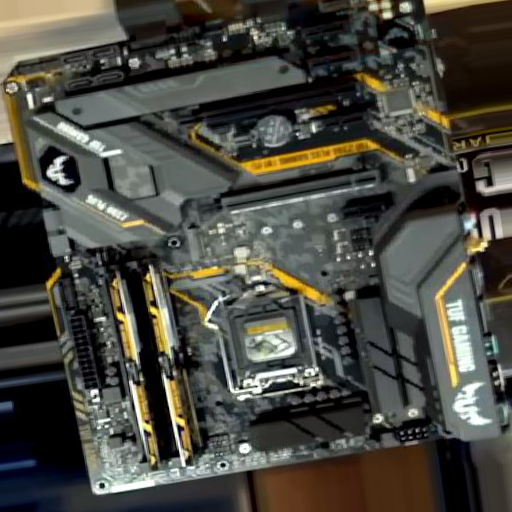CPU: (220, 280, 322, 397)
GPU: (187, 170, 383, 229), (175, 79, 359, 138)
MOTHERBOARD: (21, 1, 509, 489)
RAM: (96, 254, 205, 466)
SSD: (184, 228, 210, 266)
